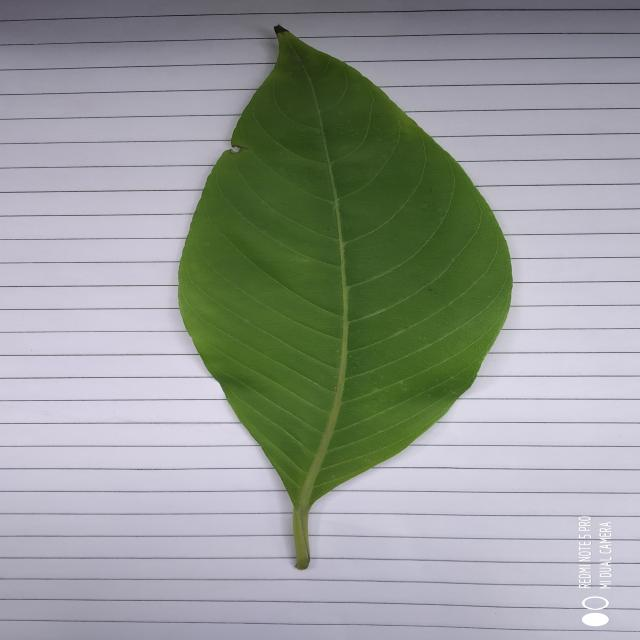malabar_nut: (178, 25, 512, 569)
